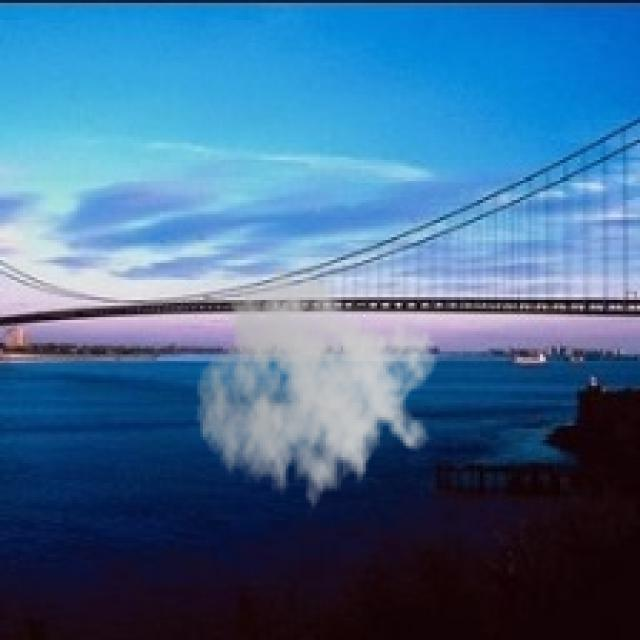smoke: (194, 263, 440, 523)
